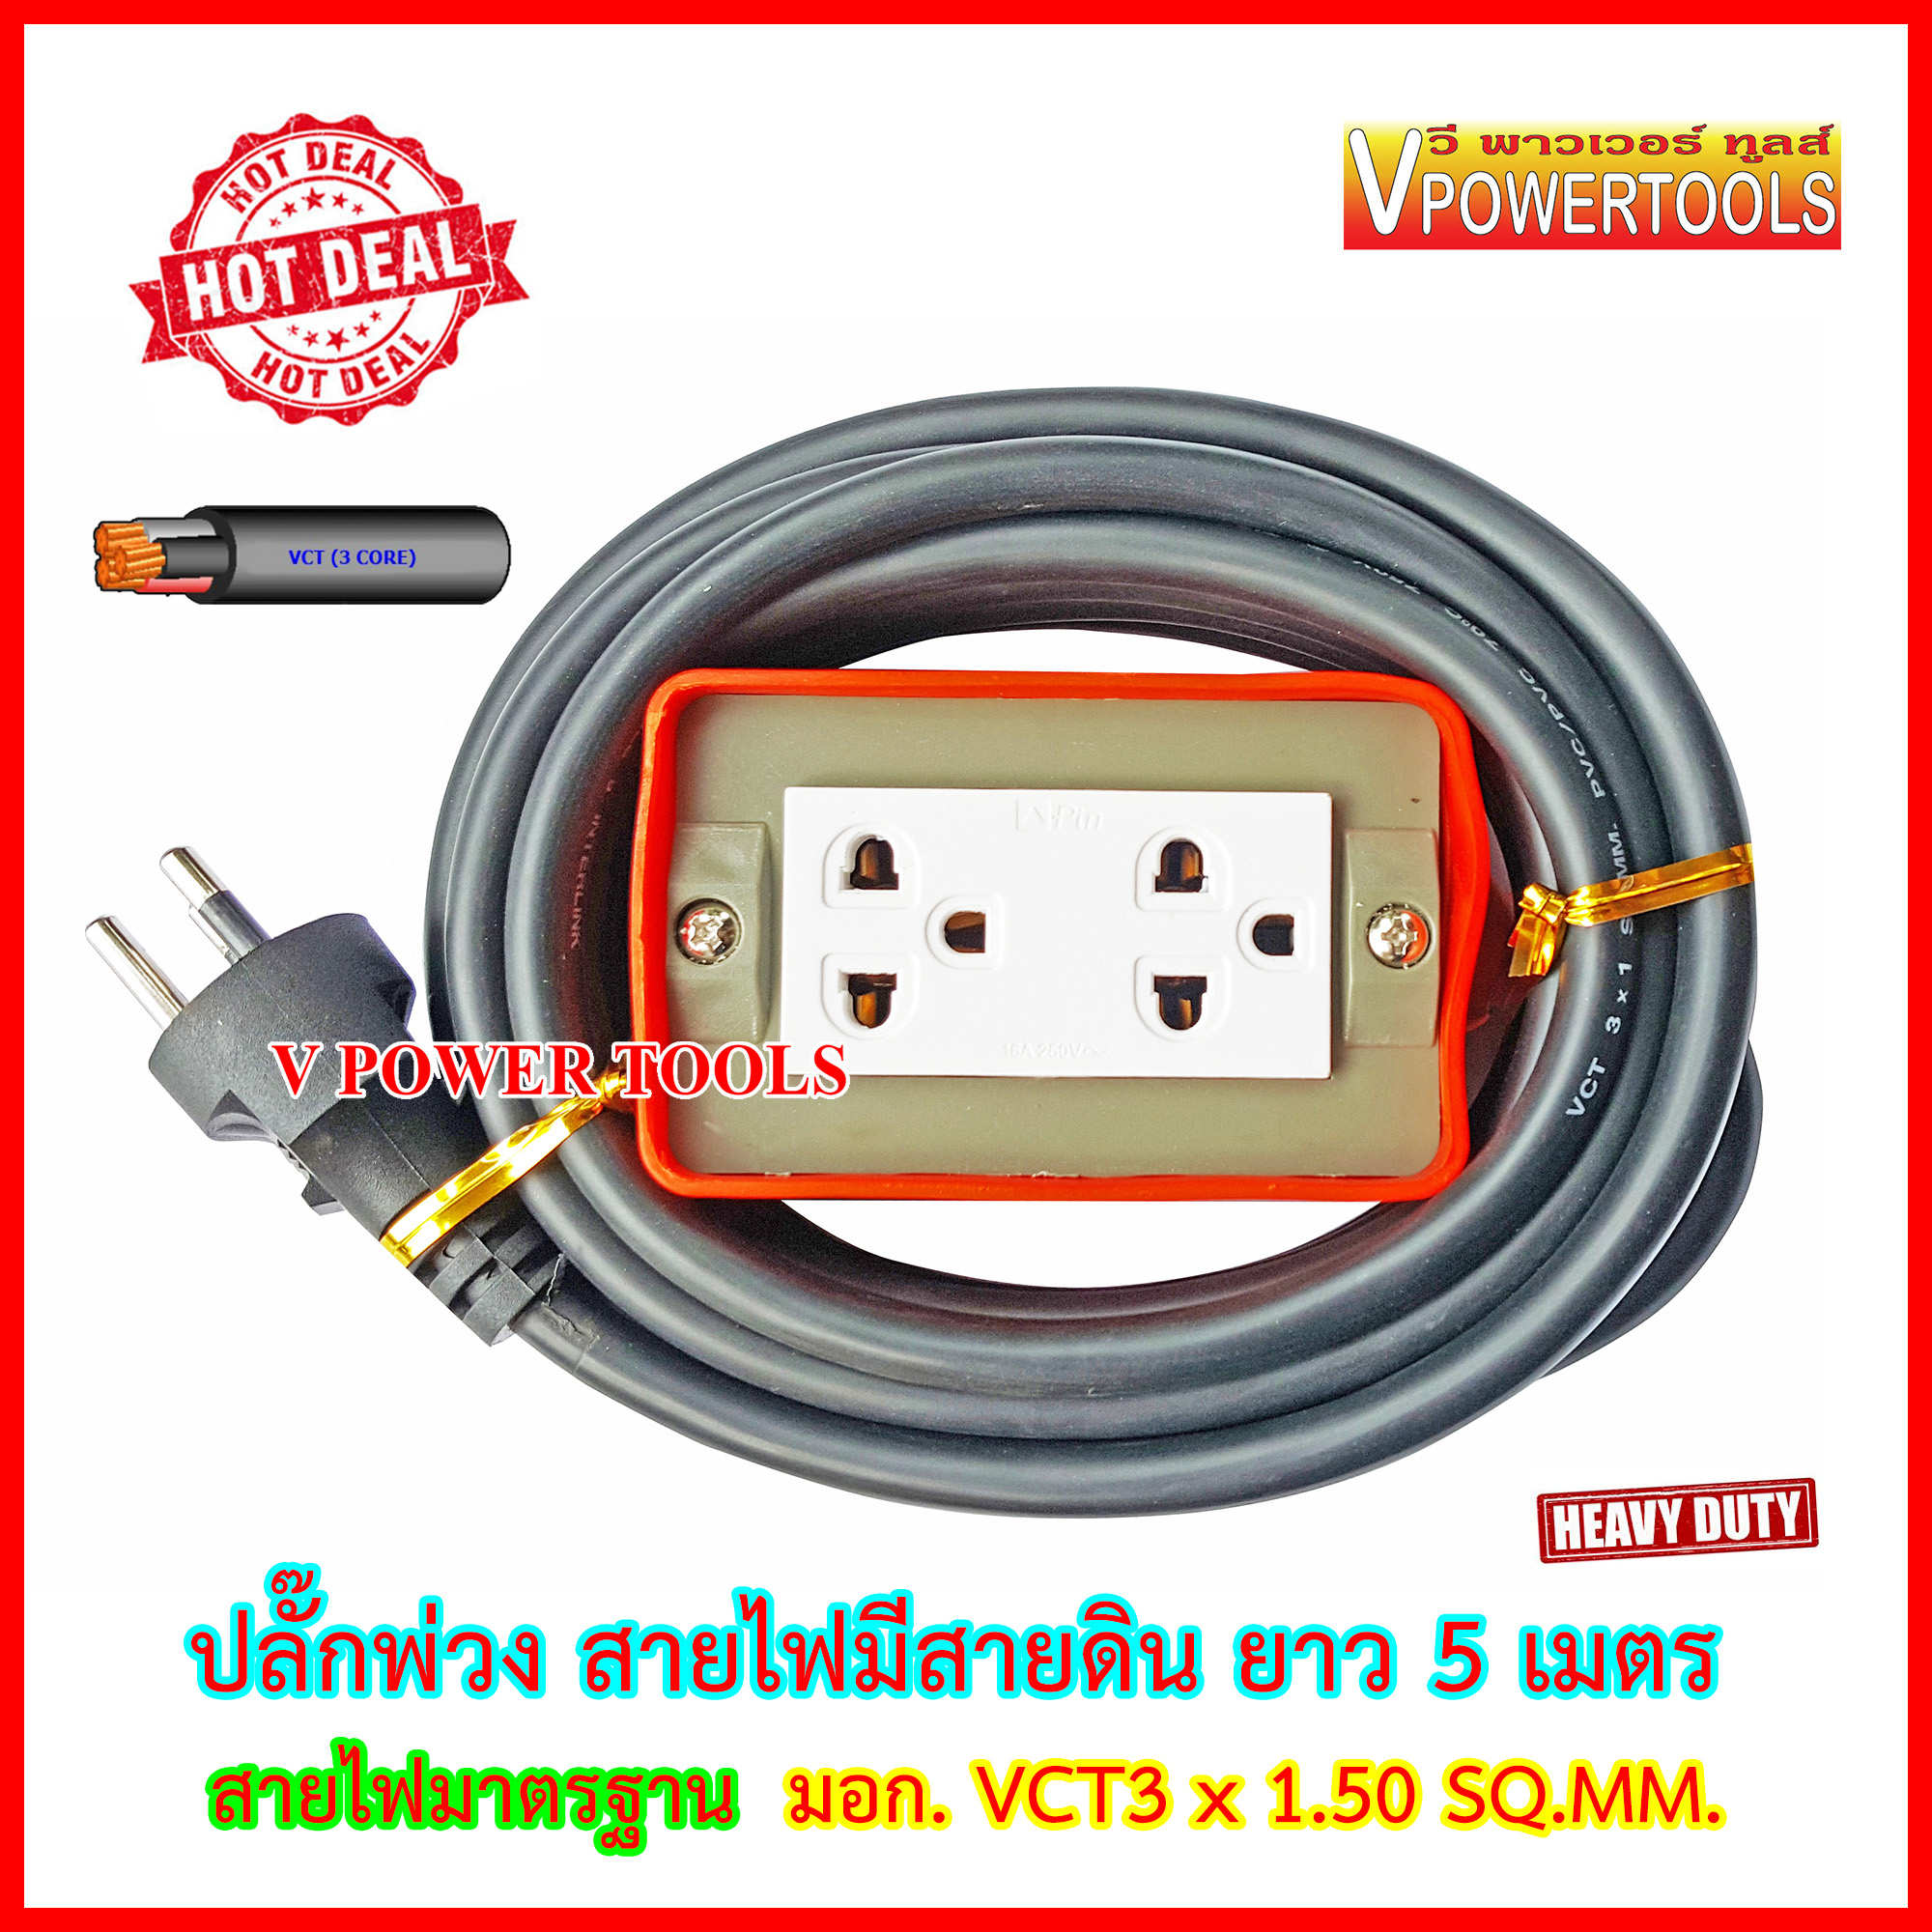Three_eye_plug: (617, 653, 1530, 1224)
